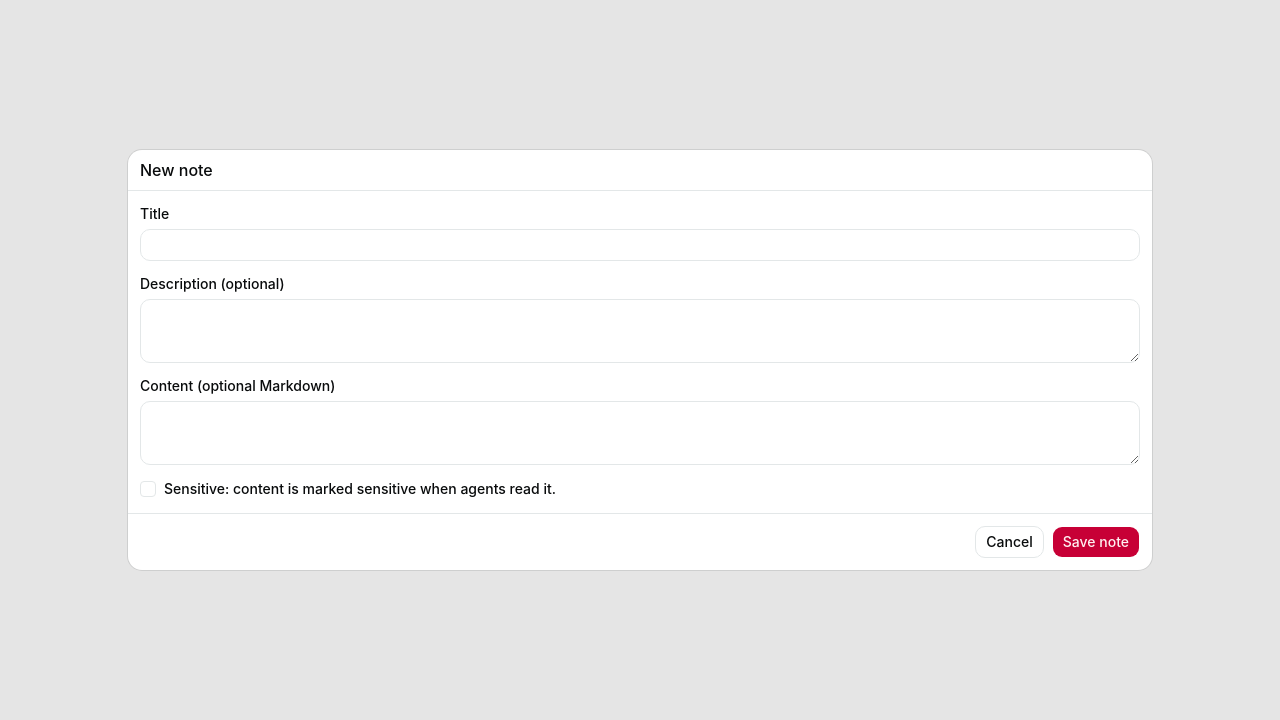
Test: note resource dialog ownership › submits the create form through its explicit dialog footer
Type "Saved name" into the field with id "session-note-title" at (640, 245), box [140,229,1140,261]
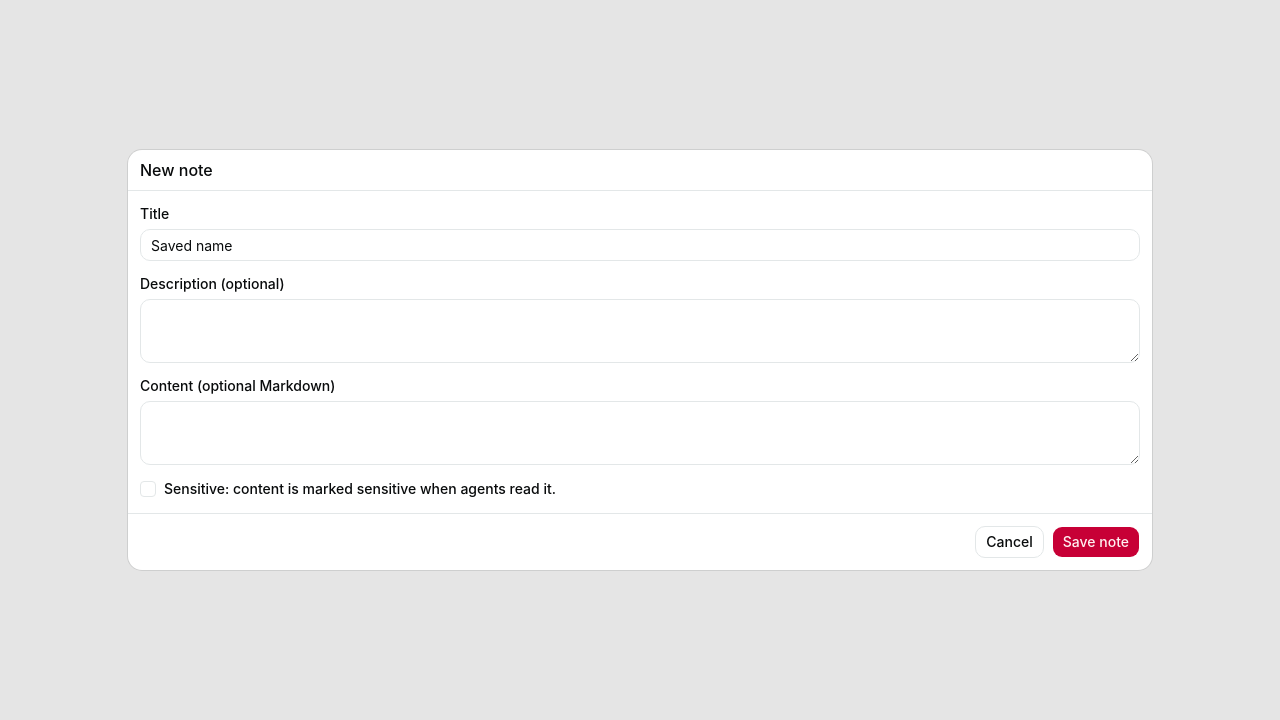
Click the button "Save note" at (1096, 542), box [1052,526,1140,558]
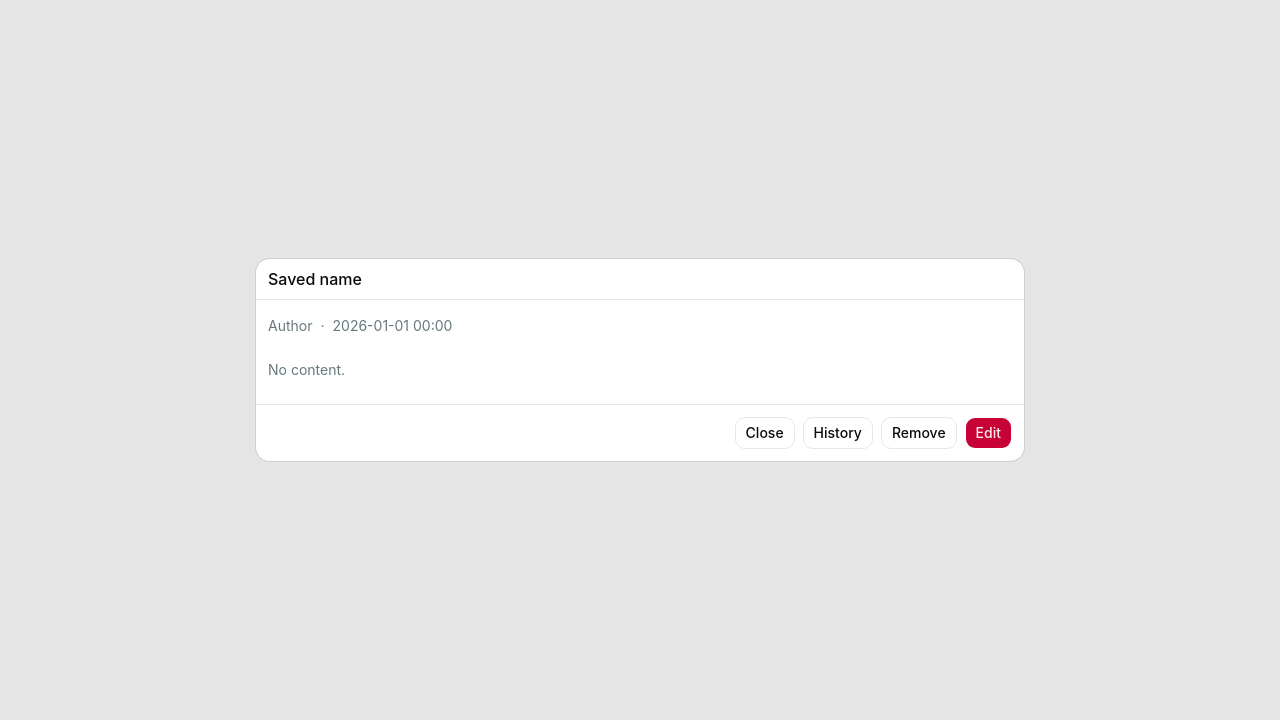
expect the heading "Saved name" is shown: met, box [268,269,362,289]
